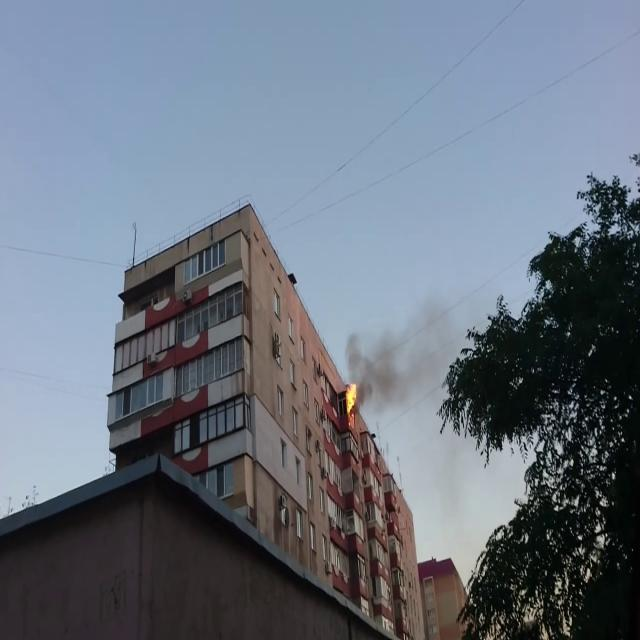Fire: (343, 377, 359, 427)
Smoke: (346, 292, 448, 416)
